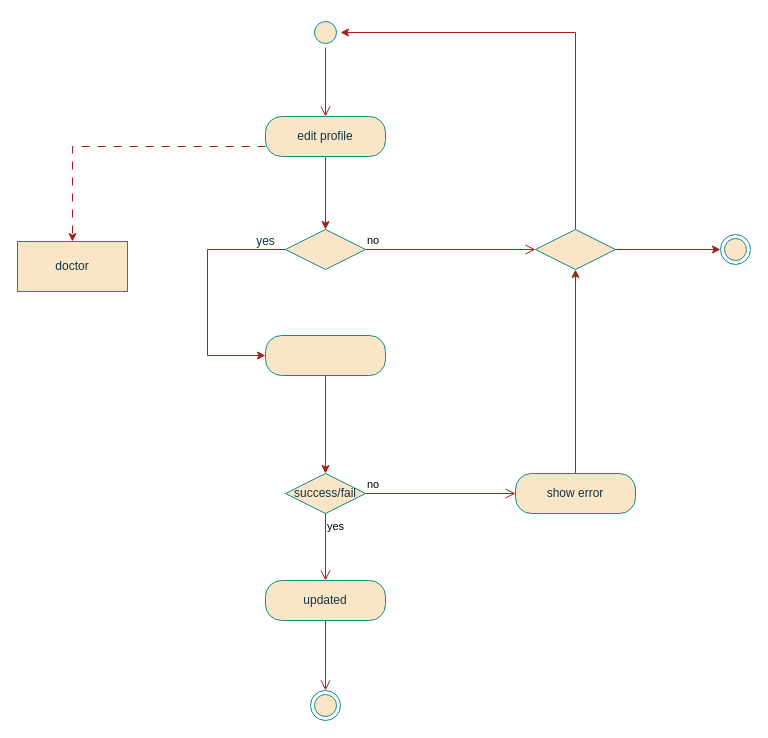
This 768x738 diagram has some shape labels left out. The shapes that lost their labels are listed below. From the top down, each one's centre as x and y in pixels, then its label:
the point at 325,249: validation
the point at 325,355: update database
